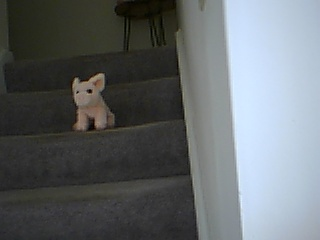piggy: (70, 72, 117, 132)
